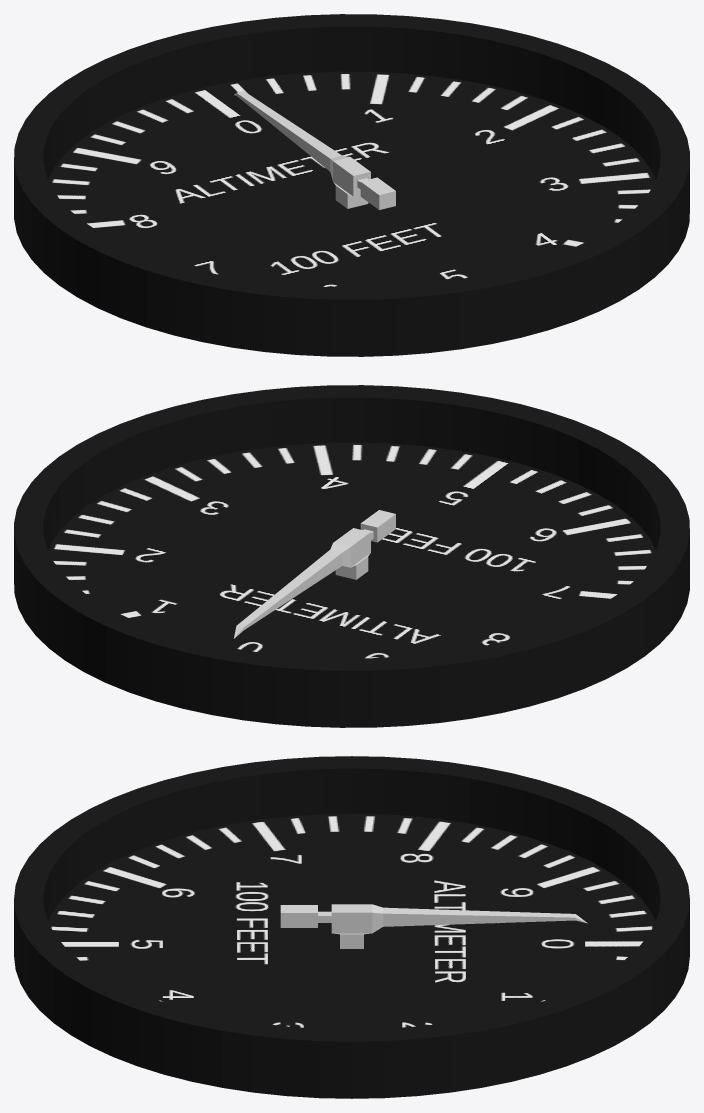
File: InstrumentsAltitude.fbx
The picture shows the model from 3 angles, top to bottom: view 1: azimuth 30°, elevation 25°; view 2: azimuth 150°, elevation 25°; view 3: azimuth 270°, elevation 25°; orthographic projection.
Visible parts, largest first — view 1: ChassisAltitude, IndicatorAltitudeLong; view 2: ChassisAltitude, IndicatorAltitudeLong; view 3: ChassisAltitude, IndicatorAltitudeLong.
Part boxes in pixels (bbox=[...]): ChassisAltitude: bbox=[14, 14, 689, 356]; IndicatorAltitudeLong: bbox=[234, 91, 395, 209]; ChassisAltitude: bbox=[14, 385, 689, 727]; IndicatorAltitudeLong: bbox=[234, 510, 395, 638]; ChassisAltitude: bbox=[14, 756, 689, 1098]; IndicatorAltitudeLong: bbox=[280, 904, 587, 934].
Bounding box in the file's own units: 130 × 12.14 × 130.
